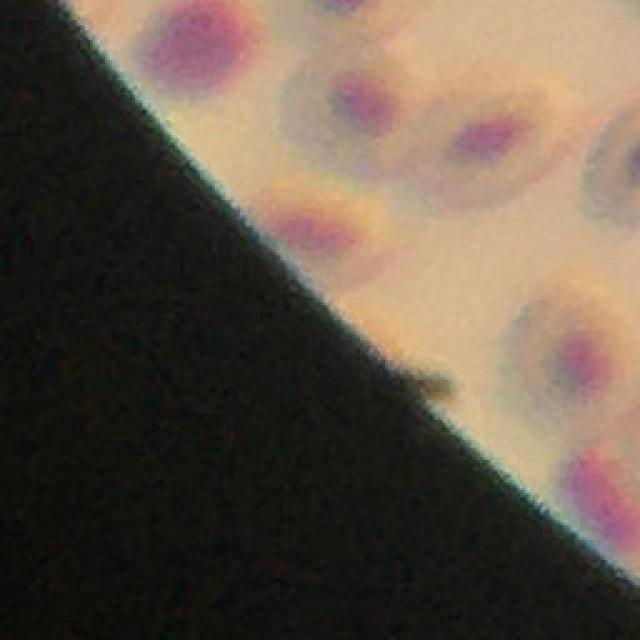RBC: (396, 72, 565, 217), (501, 270, 635, 441), (280, 40, 431, 183), (240, 179, 410, 297)
WBC: (139, 0, 260, 98), (554, 442, 640, 555)
